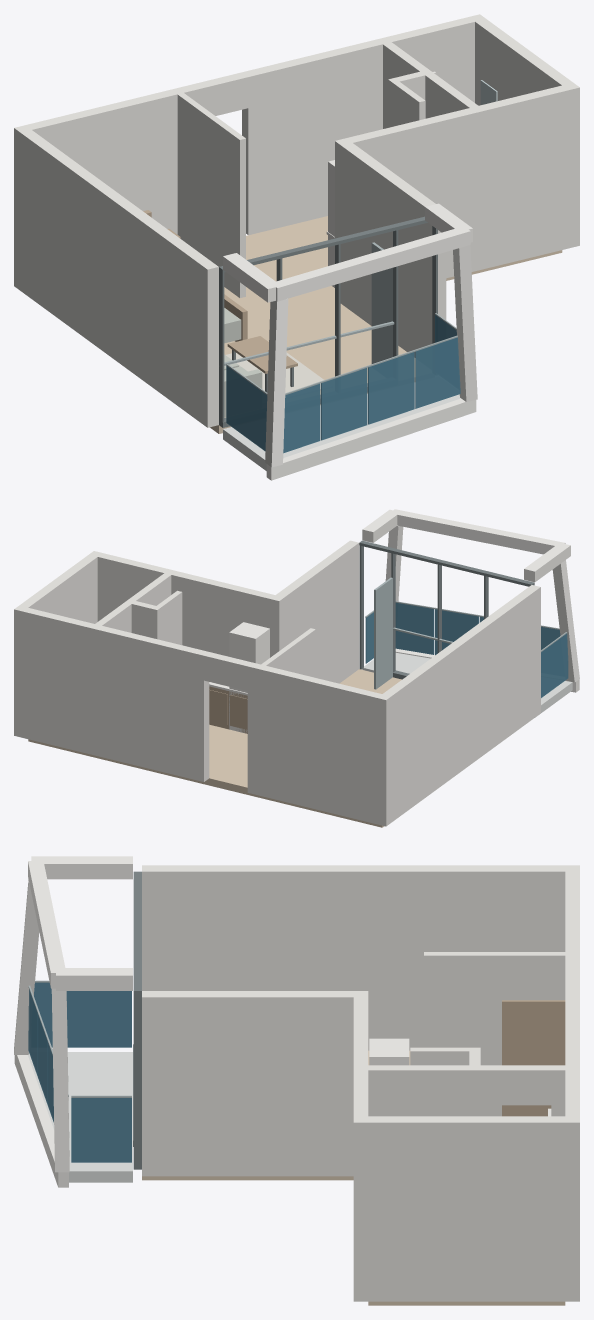
Rendered from apartment.glb.
3 views of the same model, one above another, from view 1: azimuth 30°, elevation 25°; view 2: azimuth 150°, elevation 25°; view 3: azimuth 270°, elevation 25° (orthographic). The views are drawn at different scales.
Parts seen in each view (by area): view 1: West exterior, South bathroom exterior, North exterior east, North exterior west, Living east exterior, Tinted balcony glass (×4), Bedroom screen, Living and sleeping floor, East exterior, Angled white facade pier (×2), Upper white facade band, White balcony fascia (+17 smaller); view 2: North exterior east, West exterior, North exterior west, South bathroom exterior, Living east exterior, East exterior, Tinted balcony glass (×2), Upper white facade band, Angled white facade pier (×2), Living and sleeping floor, Entry kitchen bathroom floor, Balcony open door (+14 smaller); view 3: West exterior, East exterior, Living east exterior, Bedroom screen, Tinted side glass (×2), Bathroom west, Angled white facade pier (×2), Entrance open door, Balcony slab, North exterior east, Bathroom door lintel, Upper white facade band (+13 smaller).
Part boxes in pixels (x1,y1,x2,y2): West exterior: [14, 125, 218, 427]; South bathroom exterior: [335, 85, 568, 303]; North exterior east: [242, 14, 485, 235]; North exterior west: [25, 85, 193, 234]; Living east exterior: [341, 143, 446, 357]; Tinted balcony glass (×4): [283, 337, 460, 453]; Bedroom screen: [177, 93, 245, 297]; Living and sleeping floor: [210, 235, 415, 433]; East exterior: [475, 19, 579, 248]; Angled white facade pier (×2): [265, 245, 477, 467]; Upper white facade band: [271, 227, 470, 301]; White balcony fascia: [266, 398, 476, 480]; North exterior east: [14, 605, 209, 781]; West exterior: [377, 585, 540, 826]; North exterior west: [247, 662, 381, 824]; South bathroom exterior: [97, 553, 284, 657]; Living east exterior: [276, 540, 359, 683]; East exterior: [19, 551, 102, 623]; Tinted balcony glass (×2): [395, 602, 478, 655]; Upper white facade band: [389, 509, 565, 554]; Angled white facade pier (×2): [385, 525, 579, 682]; Living and sleeping floor: [209, 669, 401, 827]; Entry kitchen bathroom floor: [28, 724, 247, 785]; Balcony open door: [374, 577, 392, 689]; West exterior: [142, 865, 579, 1050]; East exterior: [353, 1116, 565, 1301]; Living east exterior: [142, 991, 353, 1176]; Bedroom screen: [424, 952, 565, 1116]; Tinted side glass (×2): [34, 982, 131, 1162]; Bathroom west: [368, 1065, 497, 1116]; Angled white facade pier (×2): [14, 879, 69, 1172]; Entrance open door: [502, 1000, 565, 1116]; Balcony slab: [28, 1052, 132, 1182]; North exterior east: [565, 991, 579, 1301]; Bathroom door lintel: [498, 1065, 551, 1105]; Upper white facade band: [28, 861, 65, 988].
Size of the model in its own units: 8.63 by 3.28 by 8.02.
